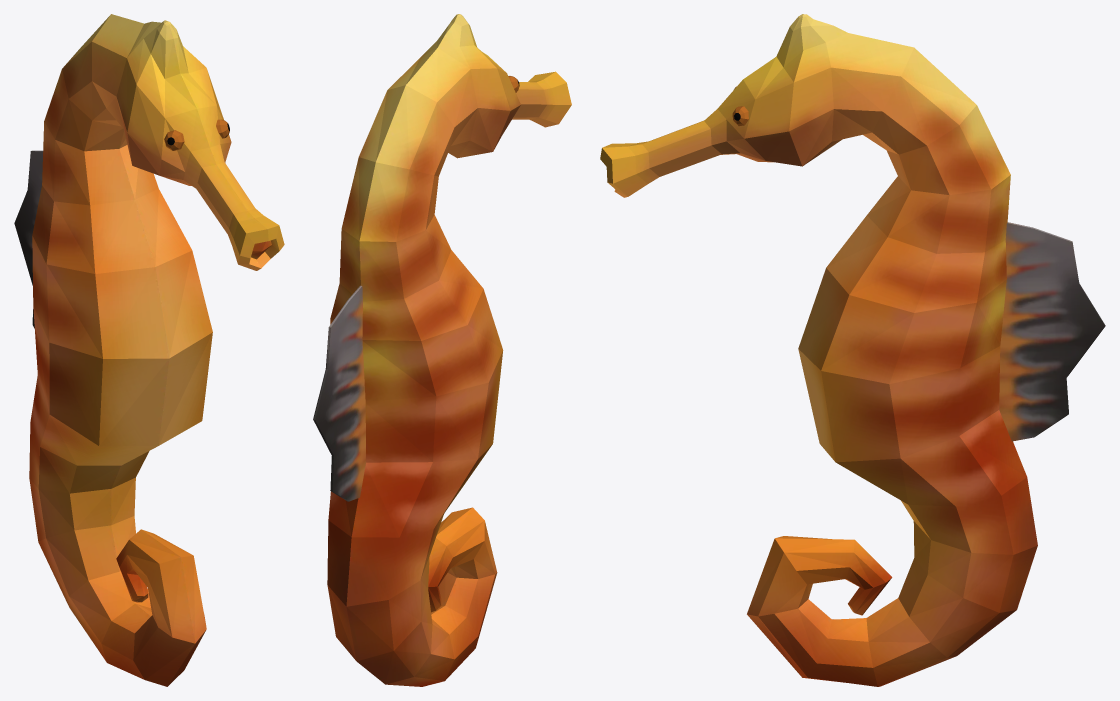
The model's file is seahorse.glb.
3 renders of one model, left to right at view 1: azimuth 30°, elevation 25°; view 2: azimuth 150°, elevation 25°; view 3: azimuth 270°, elevation 25°, orthographic. The views are drawn at different scales.
Visible parts, largest first — view 1: contract; view 2: contract; view 3: contract.
Part boxes in pixels (x1,y1,x2,y2): contract: (14,14,284,686); contract: (313,14,571,686); contract: (600,14,1105,686).
Bounding box in the file's own units: 0.0461 × 0.2 × 0.1363.
Materials: 3 (1 with a texture image).
